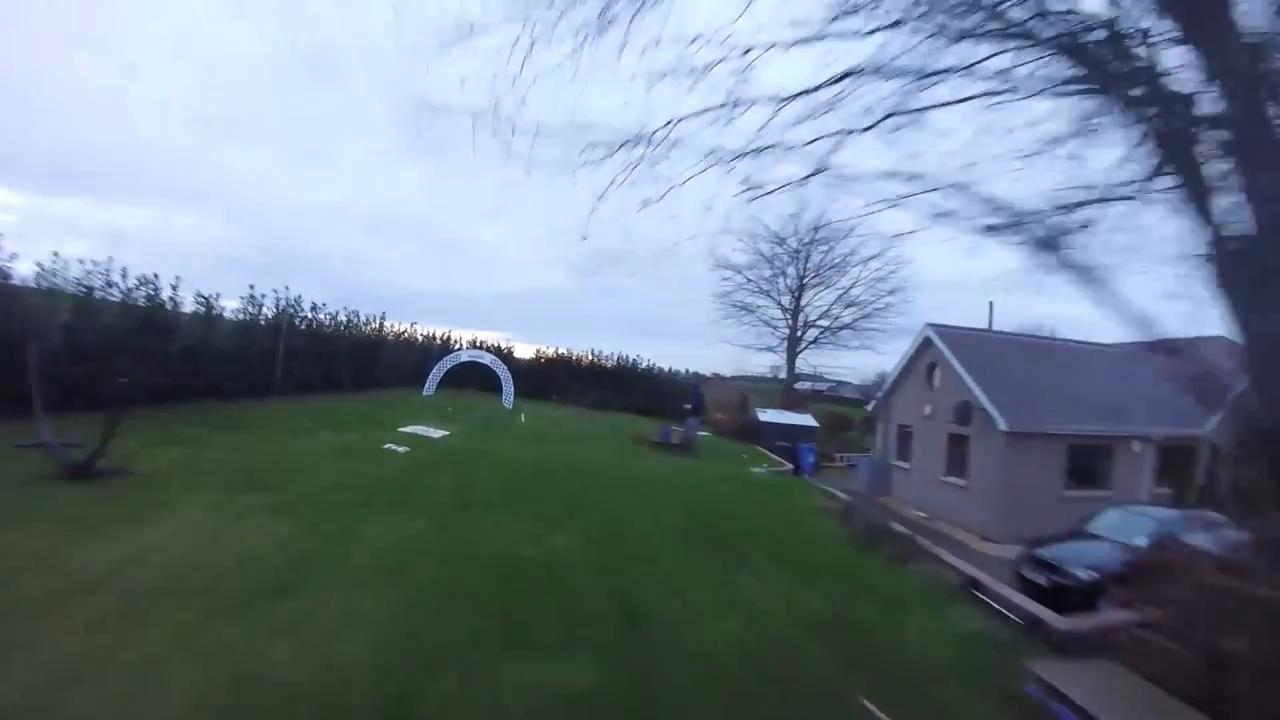gate: (421, 345, 518, 417)
